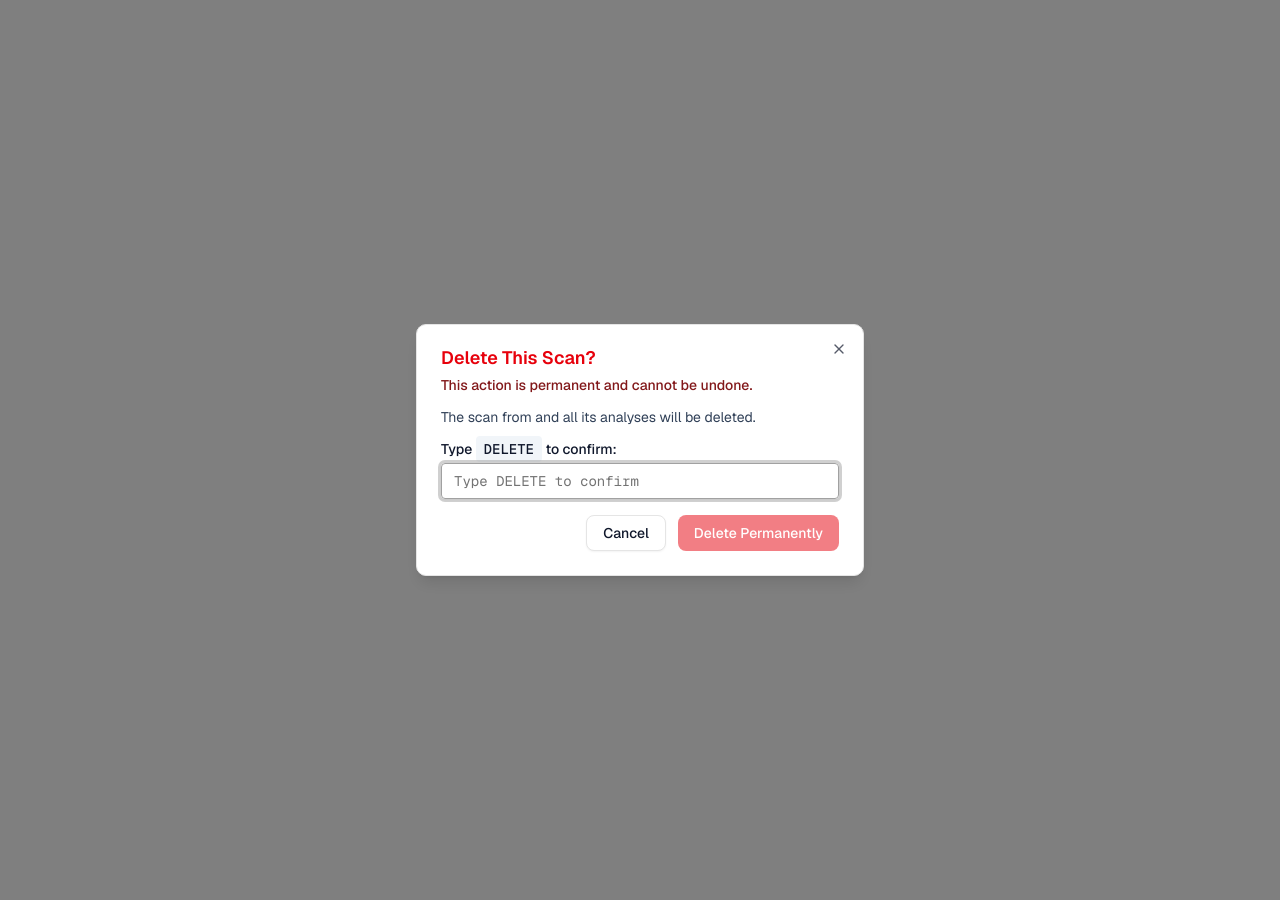
DeletionConfirmationDialog Component › requires typing DELETE to confirm
expect the button "Delete Permanently" is disabled: met, box [678,515,839,551]
// Type DELETE
Step 1. Type "DELETE" into the field with placeholder "Type DELETE to confirm" → (640, 481), box [441,463,839,499]
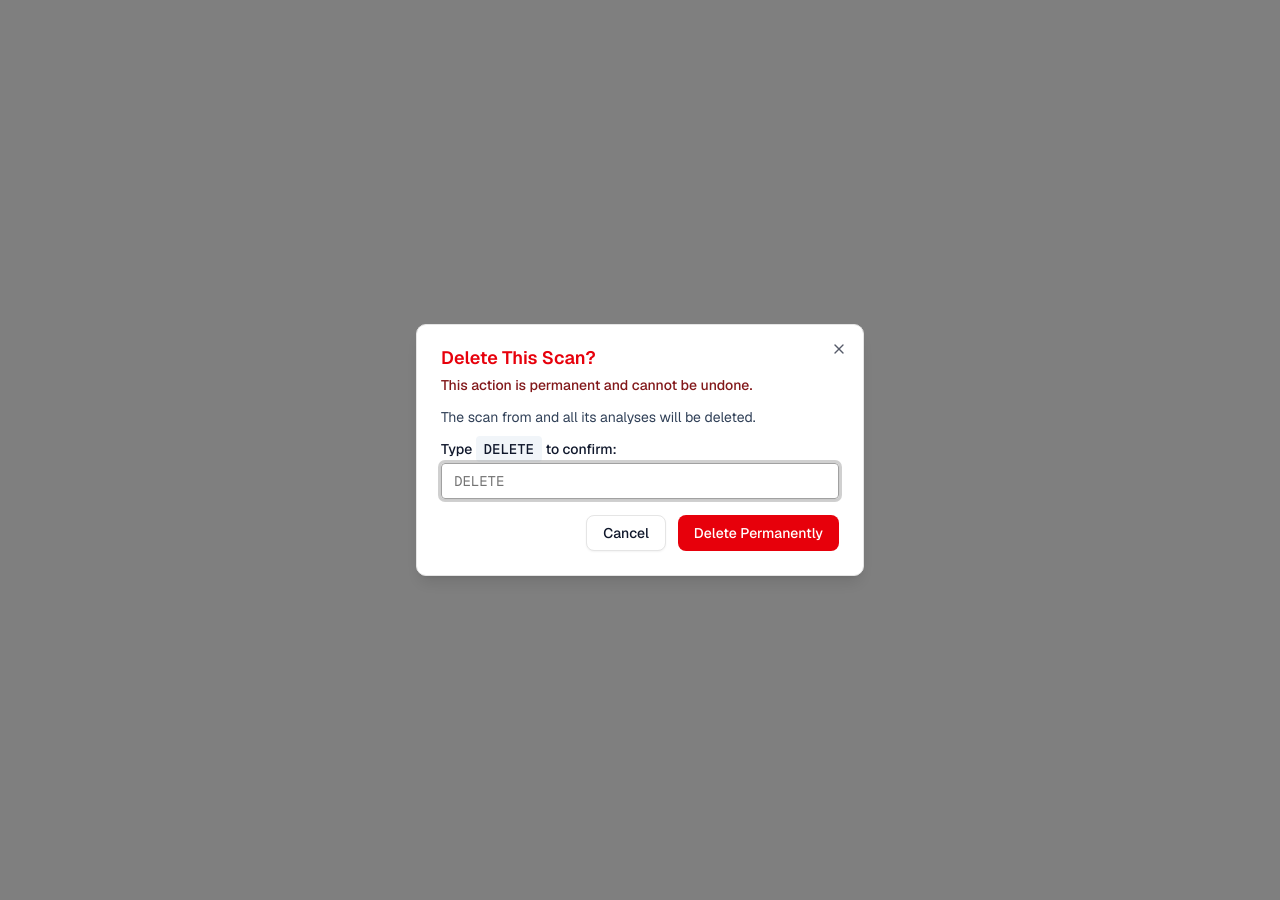
expect the button "Delete Permanently" is enabled: met, box [678,515,839,551]
